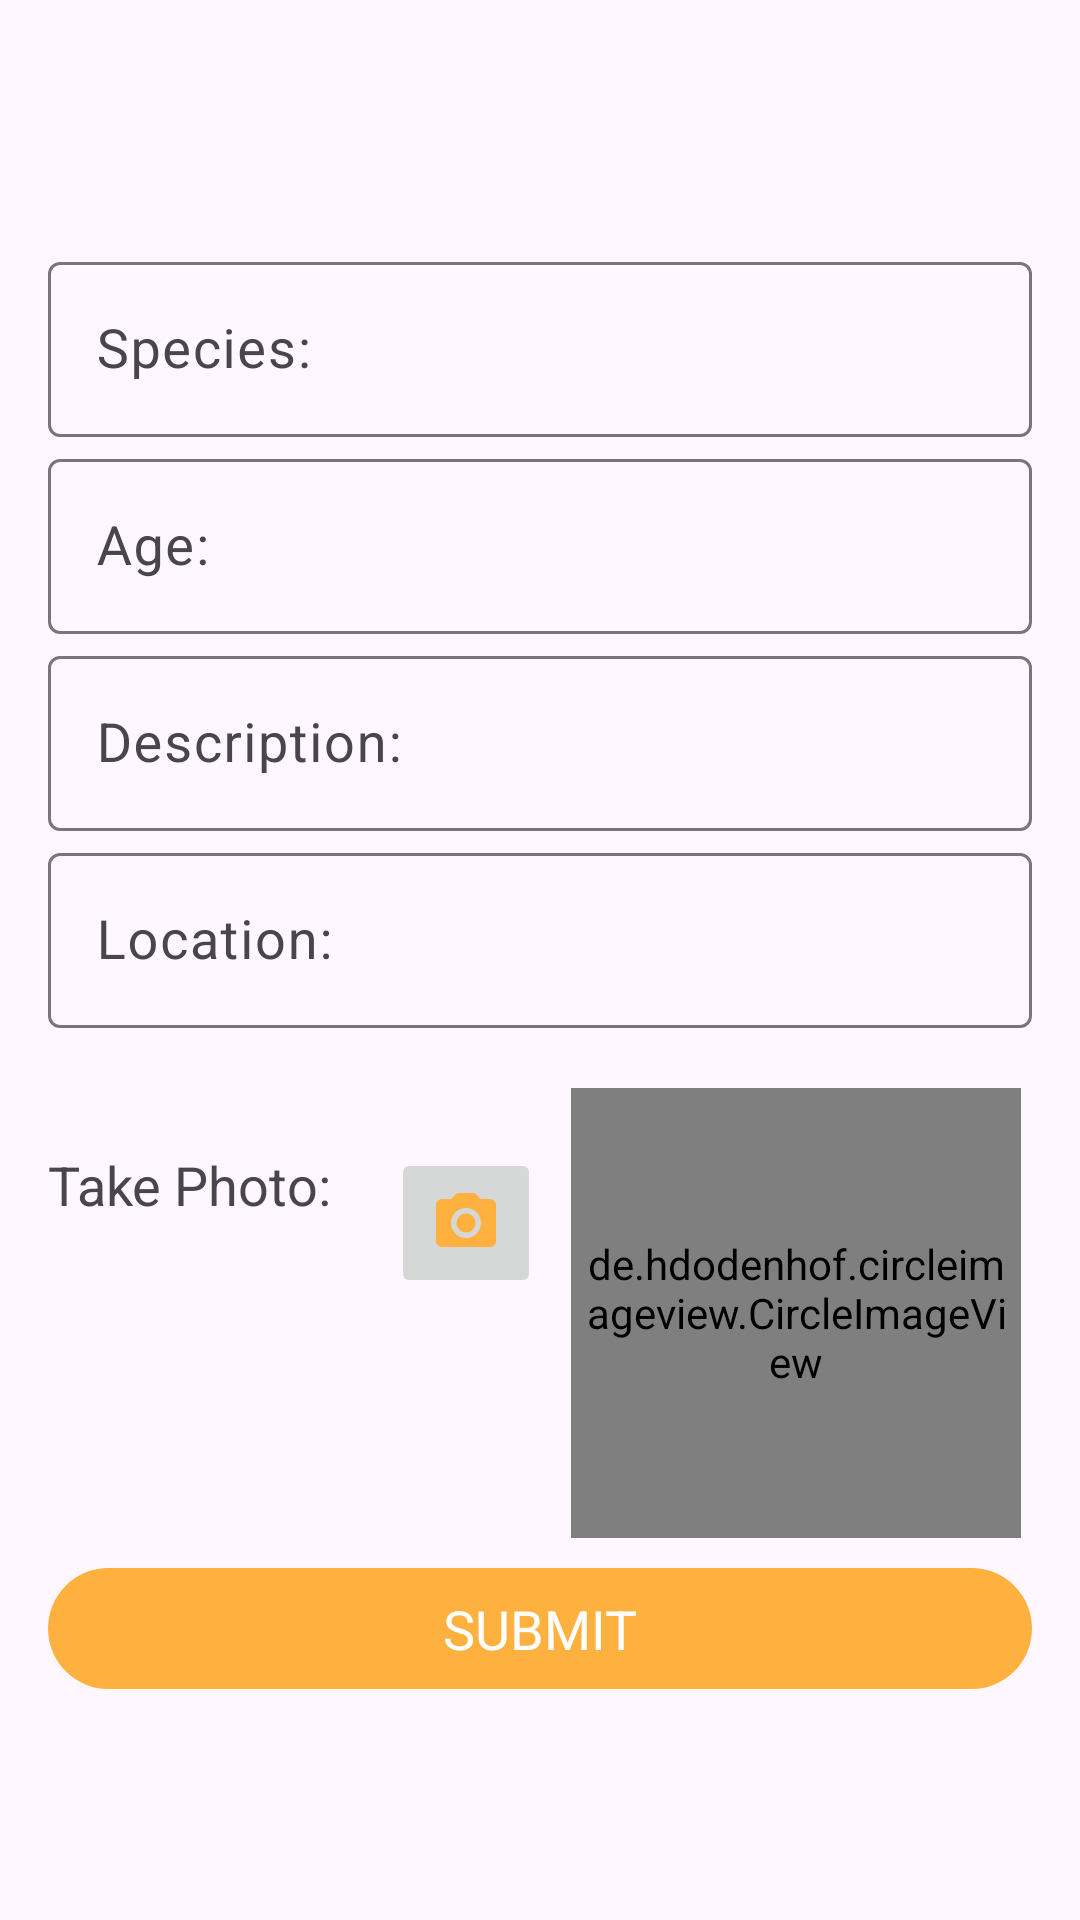

Screen size 1080px x 1920px. Icon name, then its center in pixels as (x,y):
camera: (466,1223)
